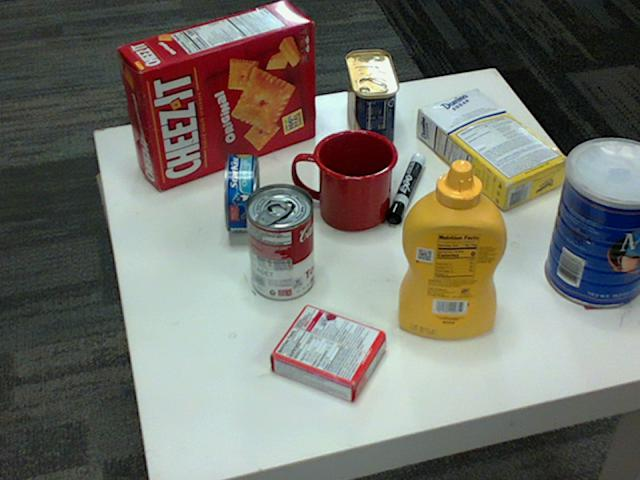cracker_box: (117, 0, 314, 188)
gelatin_box: (268, 304, 383, 404)
large_marker: (386, 156, 425, 224)
master_chef_can: (545, 138, 639, 308)
mug: (293, 127, 398, 230)
mustard_bottle: (397, 160, 507, 338)
potted_meat_can: (343, 50, 397, 150)
sugar_box: (417, 89, 570, 210)
tomato_soup_can: (245, 184, 314, 301)
tuna_fish_can: (222, 153, 259, 231)
